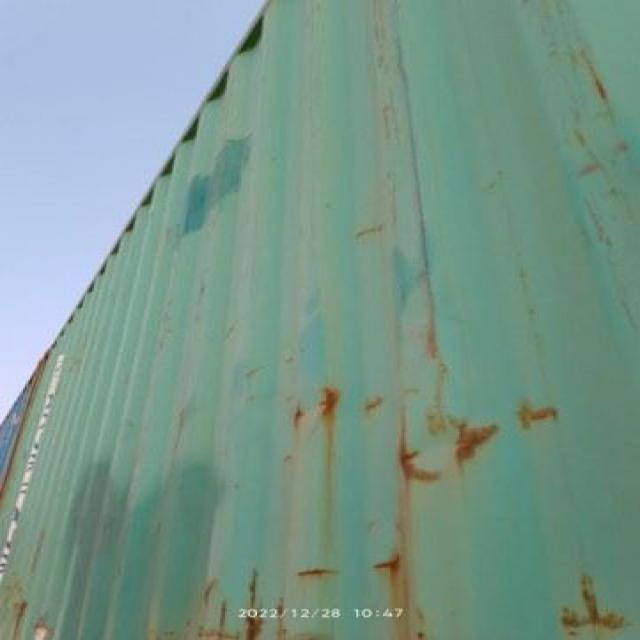Rust: (396, 428, 444, 511), (453, 425, 498, 484), (316, 391, 353, 422), (529, 410, 562, 432), (362, 572, 428, 573)
